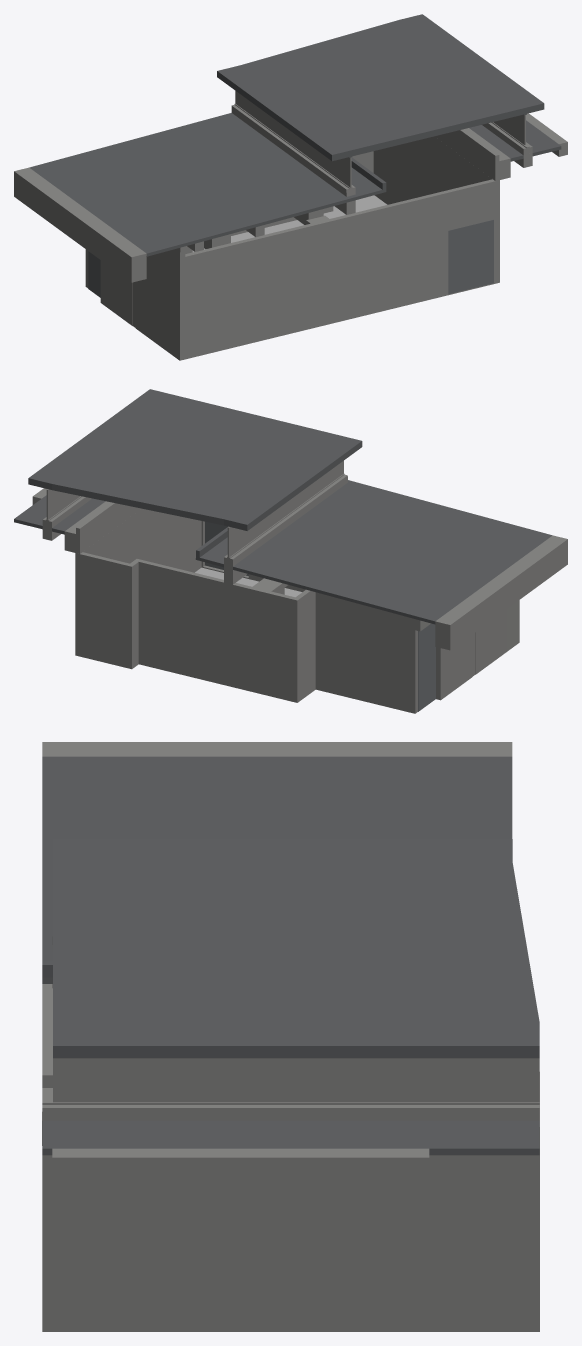
3 views of the same model, one above another, from view 1: azimuth 30°, elevation 25°; view 2: azimuth 150°, elevation 25°; view 3: azimuth 270°, elevation 25° (orthographic). The views are drawn at different scales.
Parts seen in each view (by area): view 1: 立方體.001, 立方體, 立方體.002, 立方體.004, 立方體.003; view 2: 立方體.001, 立方體, 立方體.002, 立方體.004, 立方體.003; view 3: 立方體.001, 立方體, 立方體.002.
Part boxes in pixels (x1,y1,x2,y2): 立方體.001: [14, 14, 567, 360]; 立方體: [85, 136, 499, 359]; 立方體.002: [100, 91, 525, 351]; 立方體.004: [88, 219, 493, 297]; 立方體.003: [192, 195, 387, 252]; 立方體.001: [14, 389, 567, 676]; 立方體: [75, 508, 417, 713]; 立方體.002: [46, 460, 507, 700]; 立方體.004: [205, 521, 435, 711]; 立方體.003: [195, 567, 301, 597]; 立方體.001: [42, 742, 539, 1182]; 立方體: [42, 984, 539, 1331]; 立方體.002: [53, 1058, 539, 1102].
Bounding box in the file's own units: 23.16 × 8.37 × 11.38.
Materials: 4 (1 with a texture image).
